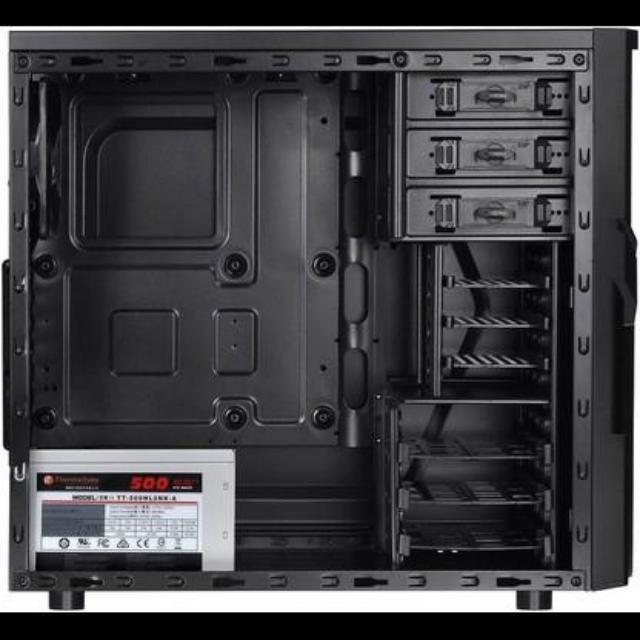PSU: (20, 444, 240, 578)
